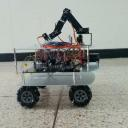cart: (12, 47, 101, 108)
